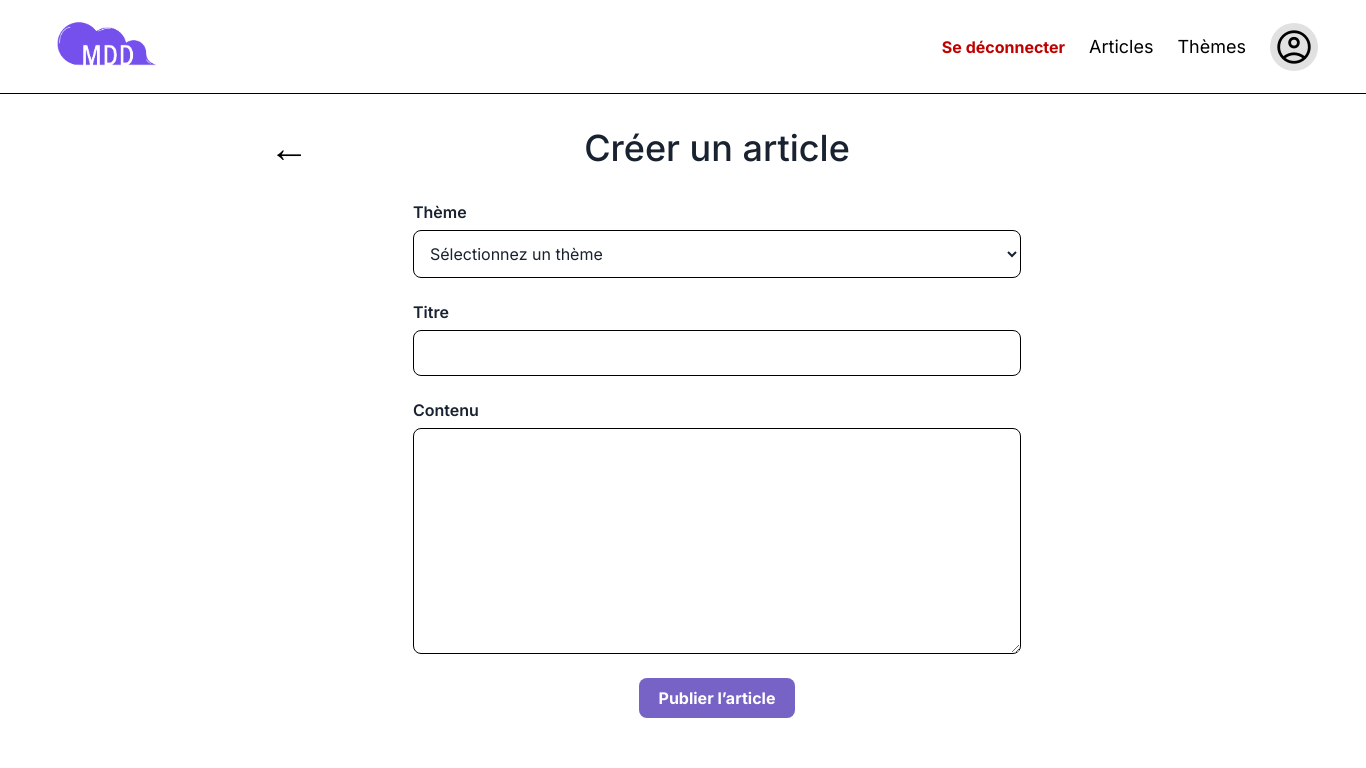
Création d’un article › shows a backend validation error beside the matching field
This screenshot has width=1366, height=768.
Select "Angular" in the dropdown with id "topic": (717, 254) [413,230,1021,278]
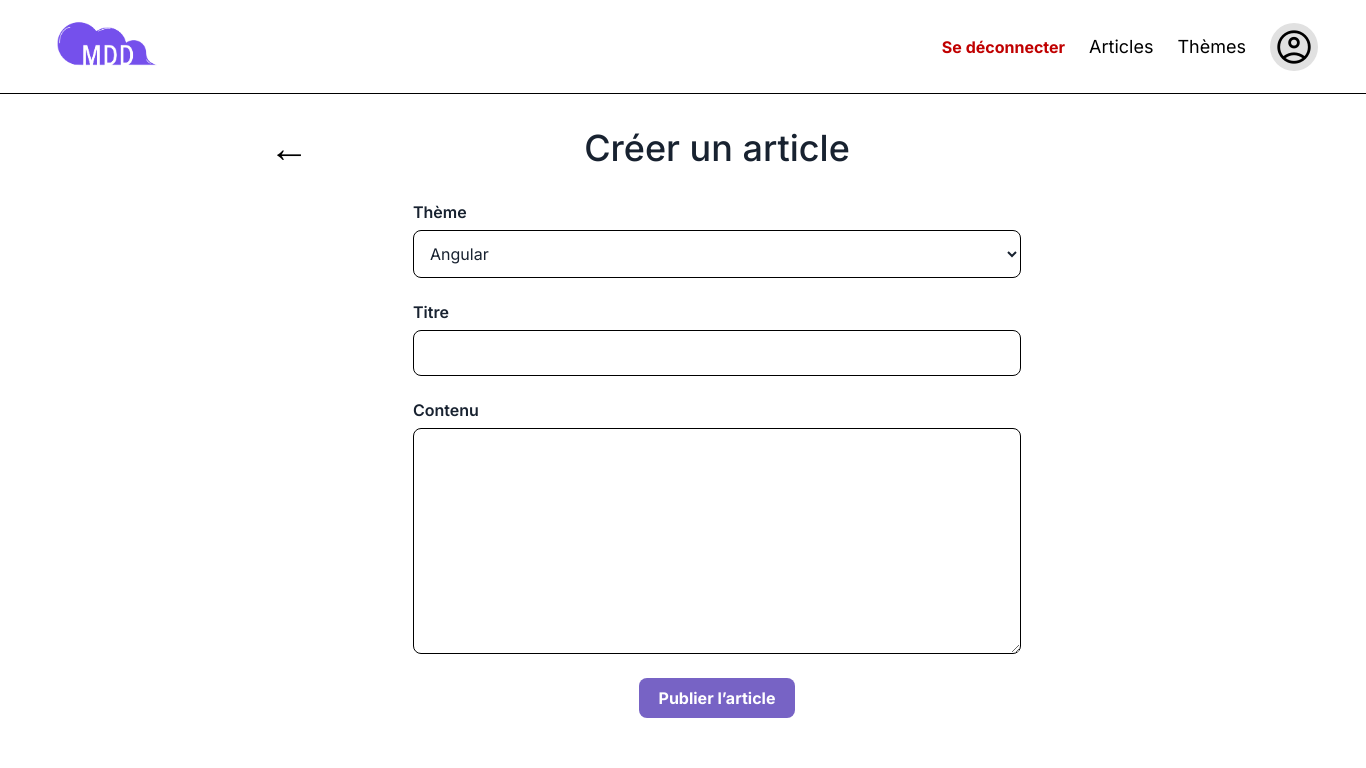
In the field with id "title": (717, 353) [413,330,1021,376], type "Comprendre les signaux Angular"
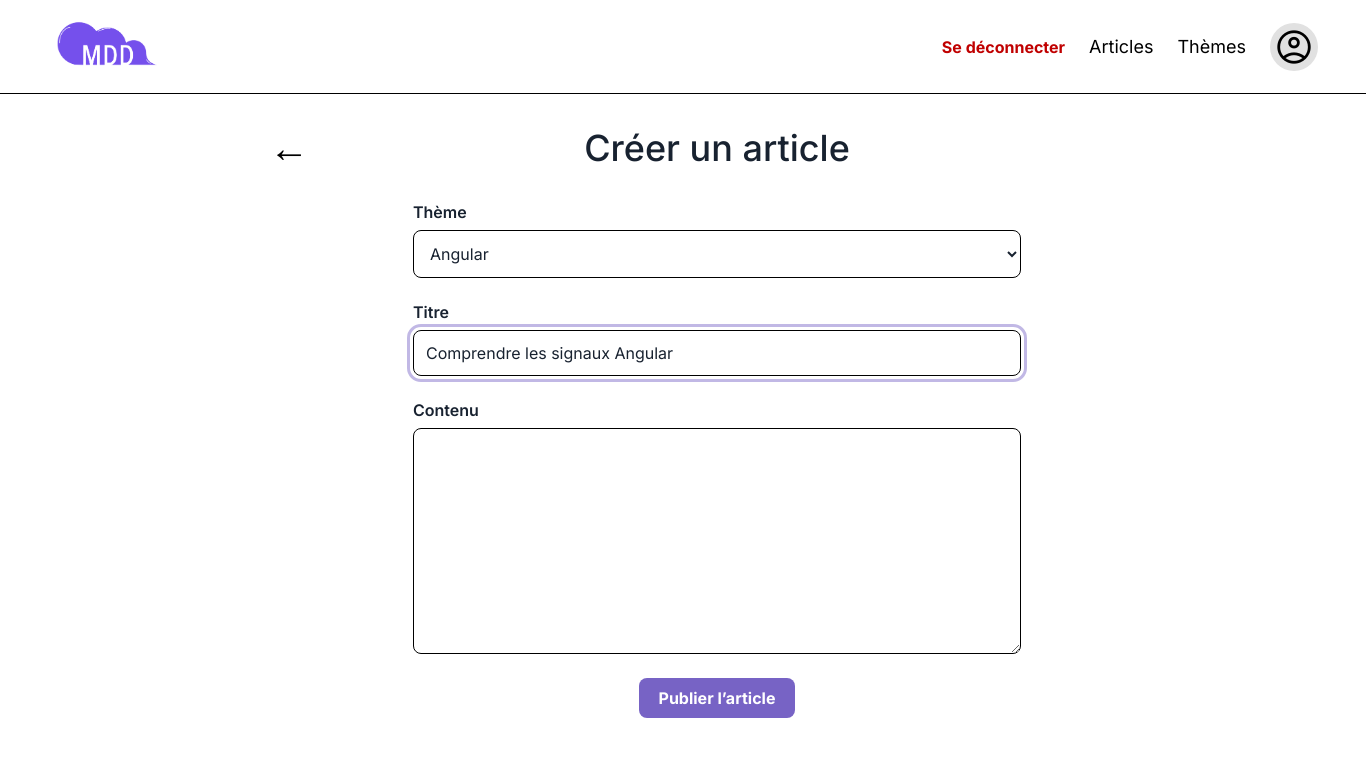
In the text box labelled "Contenu": (717, 541) [413,428,1021,654], type "Les signaux permettent de représenter simplement un état réactif."
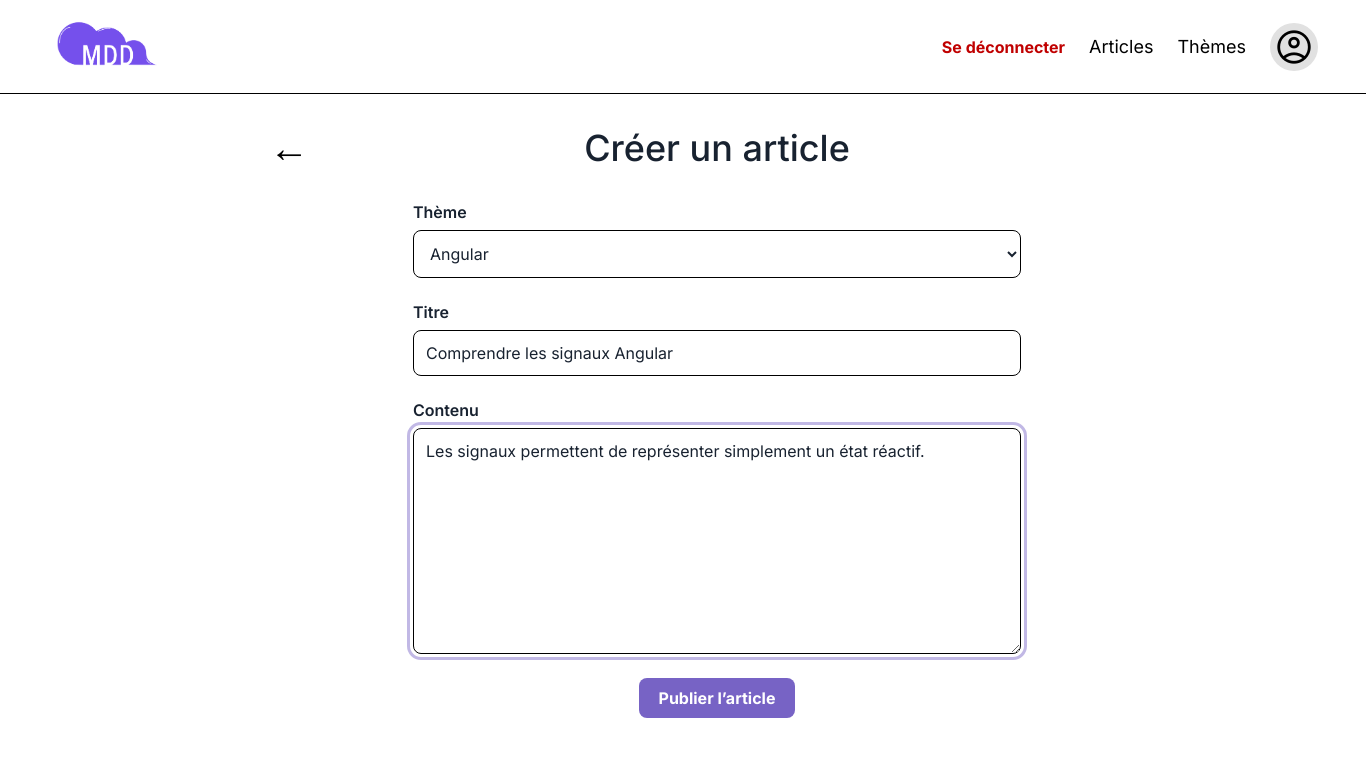
Click the button "Publier l’article": (718, 698) [639,678,796,718]
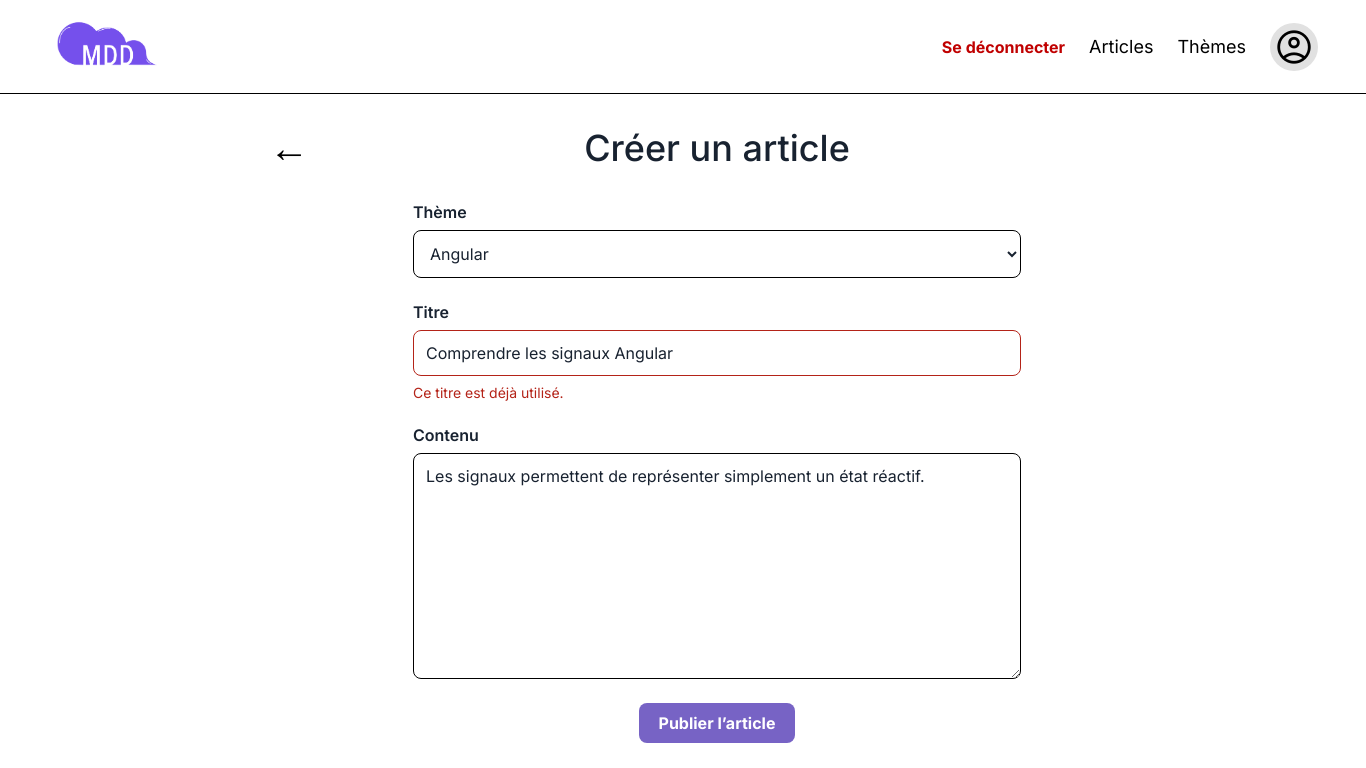
Expected: the text with id "title-error" reads "Ce titre est déjà utilisé.", [413,384,564,401]
